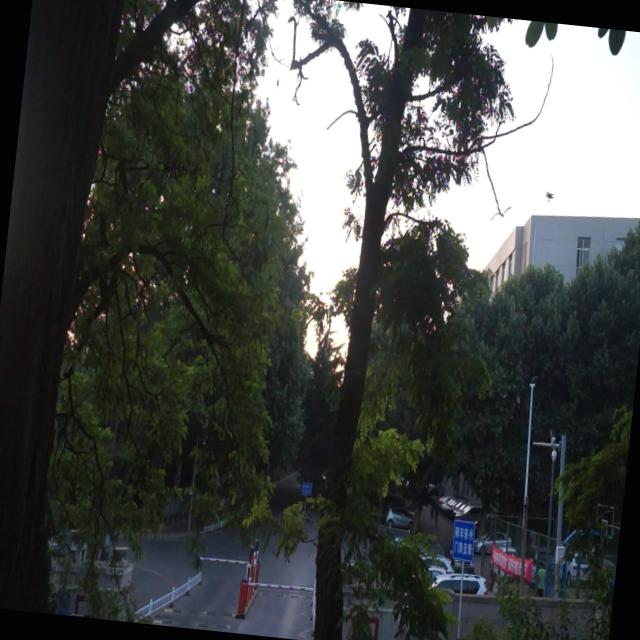drone: (542, 186, 556, 202)
